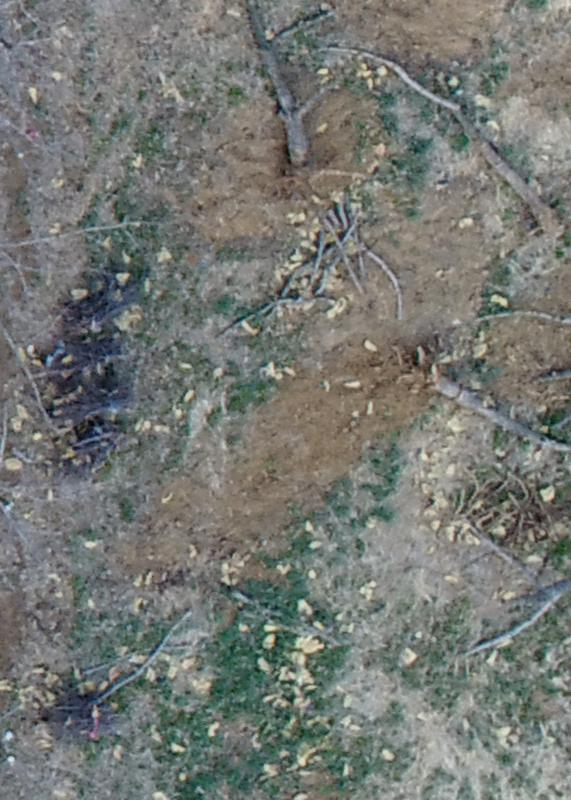apple: (10, 182, 149, 348)
